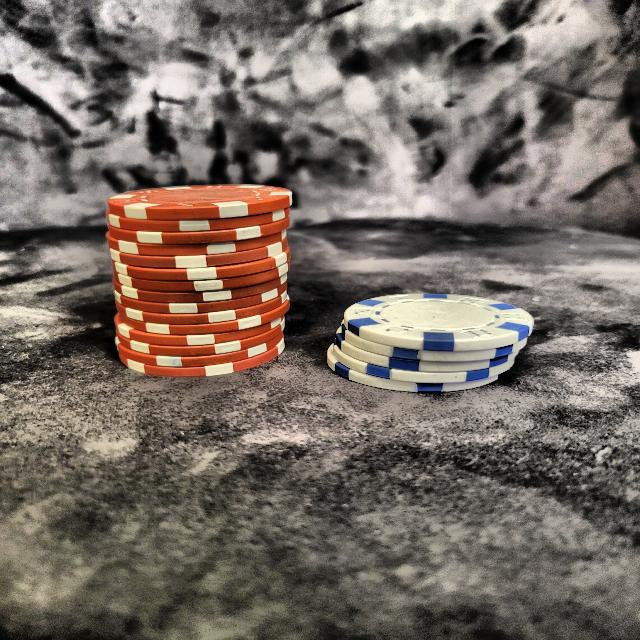Chip: (94, 153, 305, 397), (332, 276, 543, 395)
